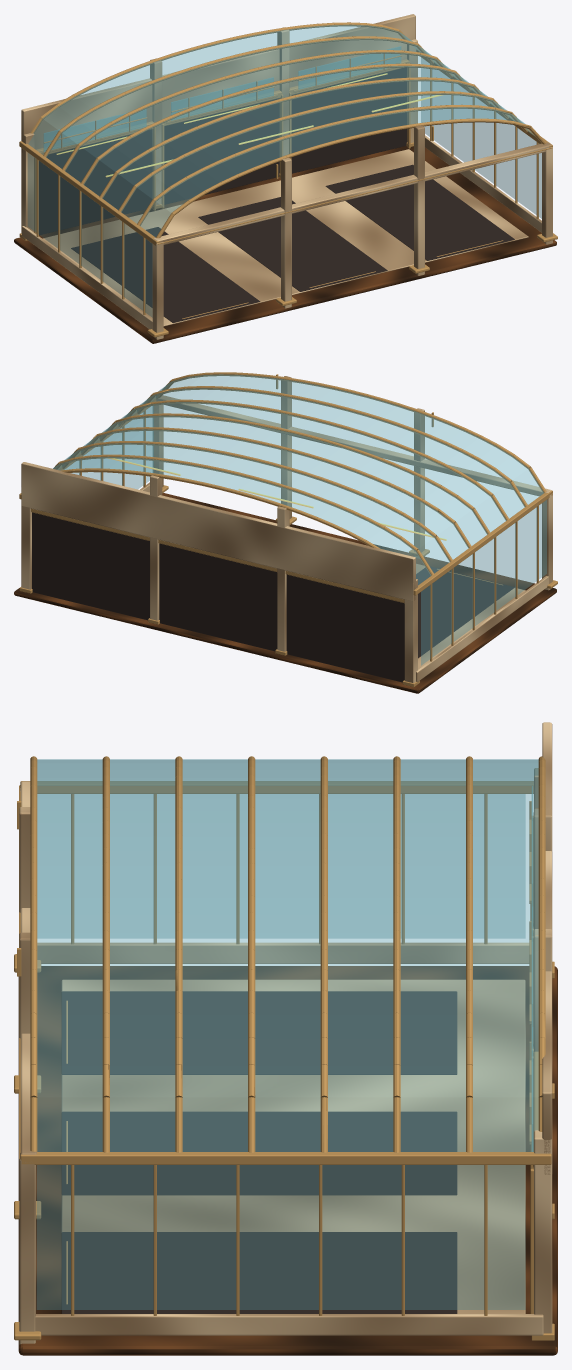
File: hangar-structure.glb
3 views of the same model, one above another, from view 1: azimuth 30°, elevation 25°; view 2: azimuth 150°, elevation 25°; view 3: azimuth 270°, elevation 25° (orthographic). The views are drawn at different scales.
Visible parts, largest first — view 1: HangarStructureStatic_ArchitecturalGlass, HangarStructureStatic_PaleTravertine, HangarStructureStatic_AgedChampagneBrass, HangarStructureStatic_DeepInterior, HangarFloorSlab, ASSET_HANGAR_DeepInterior.005, ASSET_HANGAR_DeepInterior.004, ASSET_HANGAR_DeepInterior.003, HangarStructureStatic_WarmEmissive; view 2: HangarStructureStatic_ArchitecturalGlass, HangarStructureStatic_PaleTravertine, HangarStructureStatic_AgedChampagneBrass, ASSET_HANGAR_DeepInterior.003, ASSET_HANGAR_DeepInterior.004, ASSET_HANGAR_DeepInterior.005, HangarFloorSlab, HangarStructureStatic_DeepInterior, HangarStructureStatic_WarmEmissive; view 3: HangarStructureStatic_ArchitecturalGlass, HangarStructureStatic_PaleTravertine, HangarStructureStatic_DeepInterior, HangarStructureStatic_AgedChampagneBrass, HangarFloorSlab.
Boxes of the visible parts, <box> form: HangarStructureStatic_ArchitecturalGlass: <box>28,25,541,317</box>; HangarStructureStatic_PaleTravertine: <box>21,14,552,339</box>; HangarStructureStatic_AgedChampagneBrass: <box>19,22,557,337</box>; HangarStructureStatic_DeepInterior: <box>71,164,514,322</box>; HangarFloorSlab: <box>14,146,556,343</box>; ASSET_HANGAR_DeepInterior.005: <box>291,67,406,173</box>; ASSET_HANGAR_DeepInterior.004: <box>164,98,279,204</box>; ASSET_HANGAR_DeepInterior.003: <box>39,129,152,235</box>; HangarStructureStatic_WarmEmissive: <box>56,73,442,177</box>; HangarStructureStatic_ArchitecturalGlass: <box>53,374,546,665</box>; HangarStructureStatic_PaleTravertine: <box>21,376,552,682</box>; HangarStructureStatic_AgedChampagneBrass: <box>19,372,557,686</box>; ASSET_HANGAR_DeepInterior.003: <box>286,574,404,682</box>; ASSET_HANGAR_DeepInterior.004: <box>159,543,277,651</box>; ASSET_HANGAR_DeepInterior.005: <box>32,512,149,620</box>; HangarFloorSlab: <box>14,493,556,693</box>; HangarStructureStatic_DeepInterior: <box>416,566,514,658</box>; HangarStructureStatic_WarmEmissive: <box>108,458,446,540</box>; HangarStructureStatic_ArchitecturalGlass: <box>37,759,538,1309</box>; HangarStructureStatic_PaleTravertine: <box>19,722,552,1344</box>; HangarStructureStatic_DeepInterior: <box>61,991,457,1313</box>; HangarStructureStatic_AgedChampagneBrass: <box>14,756,554,1340</box>; HangarFloorSlab: <box>18,966,557,1355</box>.
Bounding box in the file's own units: 25 × 9.2 × 15.
6 materials, 2 textured.
